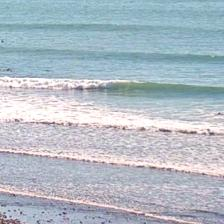surfer: (4, 68, 12, 72), (216, 112, 222, 116), (0, 40, 4, 43)
